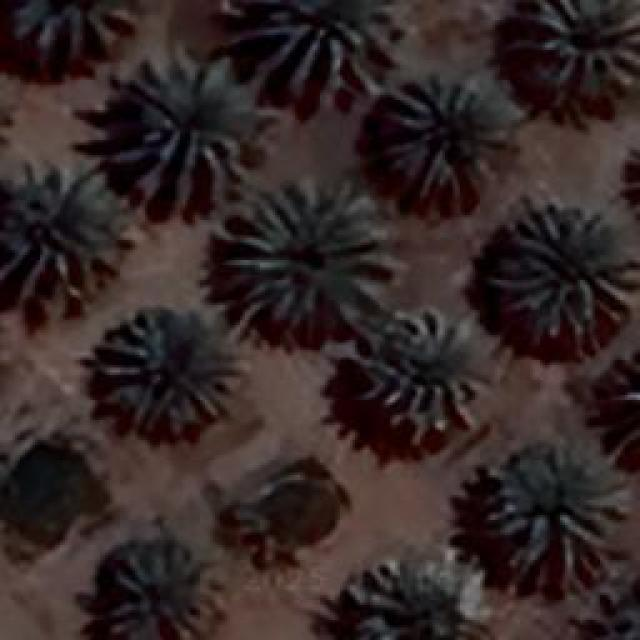PalmTree: (28, 125, 422, 595), (140, 80, 626, 405), (222, 175, 398, 328), (482, 202, 636, 340), (490, 442, 630, 588), (95, 307, 248, 435), (0, 160, 132, 295), (380, 70, 515, 200), (367, 307, 495, 435), (130, 49, 260, 172), (252, 0, 400, 85), (105, 544, 227, 638), (227, 461, 330, 563), (534, 0, 638, 88), (10, 0, 140, 48), (576, 578, 640, 640), (623, 127, 640, 237), (628, 129, 640, 235), (0, 59, 11, 170)
